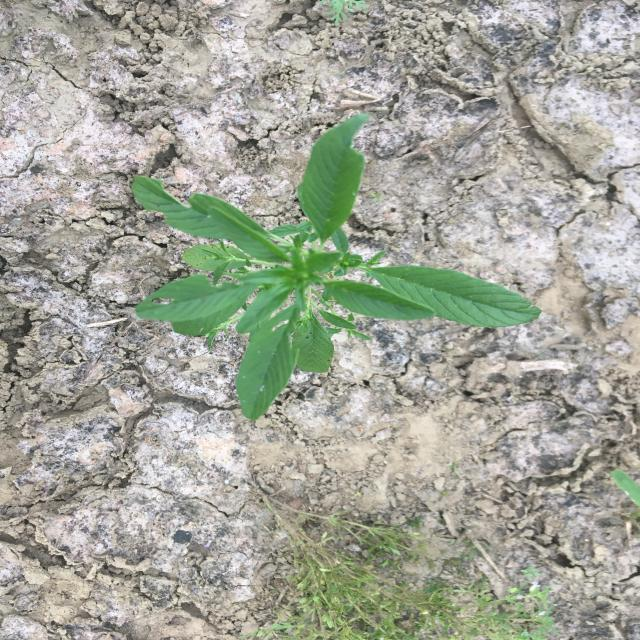Ragweed: (317, 0, 373, 26)
Waterhemp: (129, 113, 544, 421)
